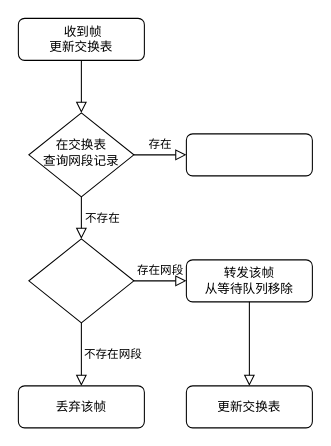
Some shapes in this 331 by 446 pixel diagram are drawn without their labels. The shapes that lost their labels are listed below. From the top down, each one's centre as x and y in pixels, then its label:
At (x=248, y=154): "转发该帧到网段".
At (x=81, y=280): "广播该帧 加入到等待集合".
